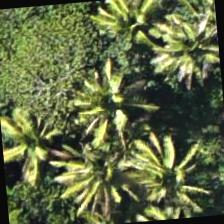Kelapa_Sawit: (41, 69, 138, 167), (24, 131, 123, 223), (0, 110, 78, 206), (118, 166, 212, 224)
